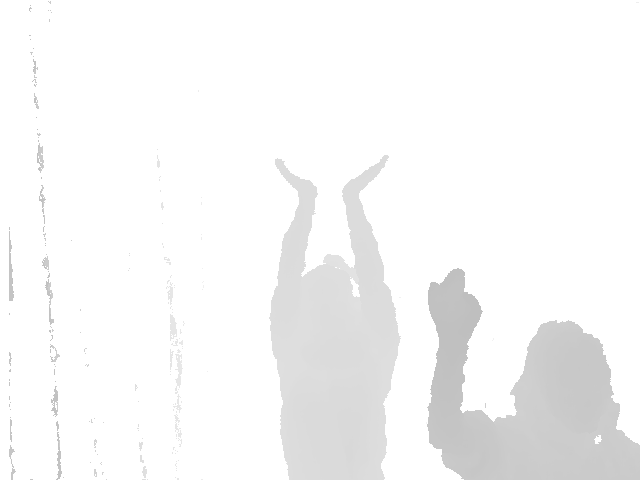hand: (424, 264, 485, 335), (340, 152, 392, 200), (272, 153, 318, 201)
head: (505, 318, 625, 447), (289, 255, 366, 354)
person: (424, 264, 640, 480), (265, 150, 404, 480)
